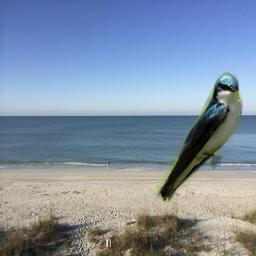Swallow: (155, 72, 244, 207)
